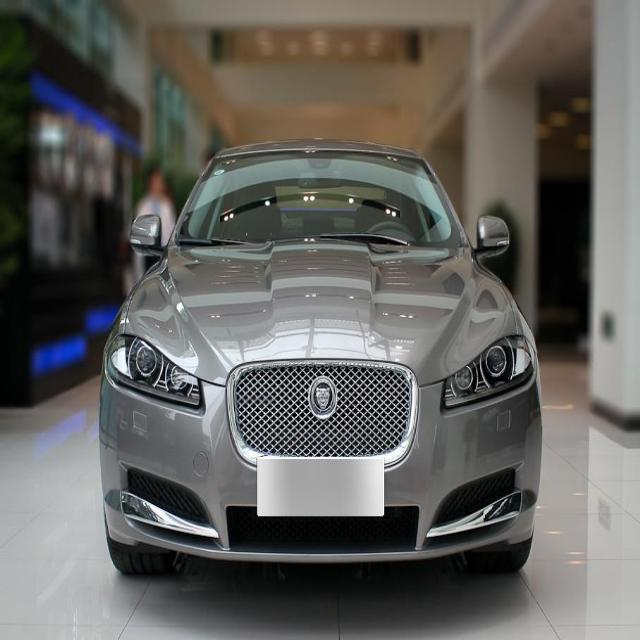front_bumper: (100, 370, 544, 563), (172, 150, 464, 250)
front_left_side_light: (440, 330, 538, 414)
front_left_side_mirror: (474, 212, 512, 260)
front_right_side_light: (104, 331, 203, 413)
front_right_side_mirror: (128, 212, 165, 260)
